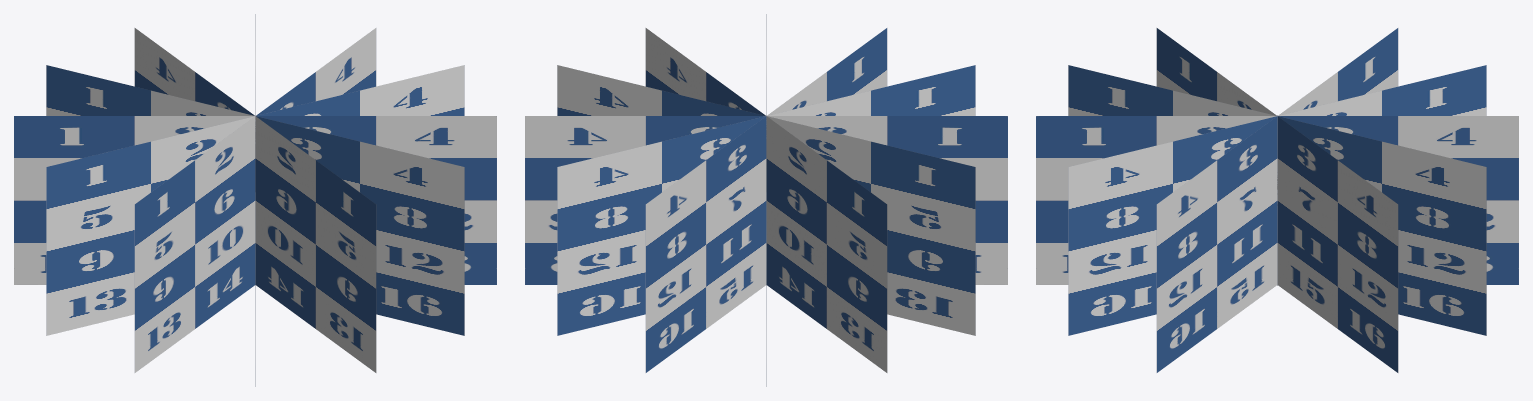
Rendered from Akaza_Compass2.fbx.
The picture shows the model from 3 angles, left to right: view 1: azimuth 30°, elevation 25°; view 2: azimuth 150°, elevation 25°; view 3: azimuth 270°, elevation 25°; orthographic projection.
Visible parts, largest first — view 1: SM_e_Plc_P1012_Compass002; view 2: SM_e_Plc_P1012_Compass002; view 3: SM_e_Plc_P1012_Compass002.
Boxes of the visible parts, x1=… form: SM_e_Plc_P1012_Compass002: x1=14, y1=14, x2=496, y2=386; SM_e_Plc_P1012_Compass002: x1=525, y1=14, x2=1007, y2=386; SM_e_Plc_P1012_Compass002: x1=1036, y1=28, x2=1518, y2=372.
Bounding box in the file's own units: 187 × 72.17 × 187.
